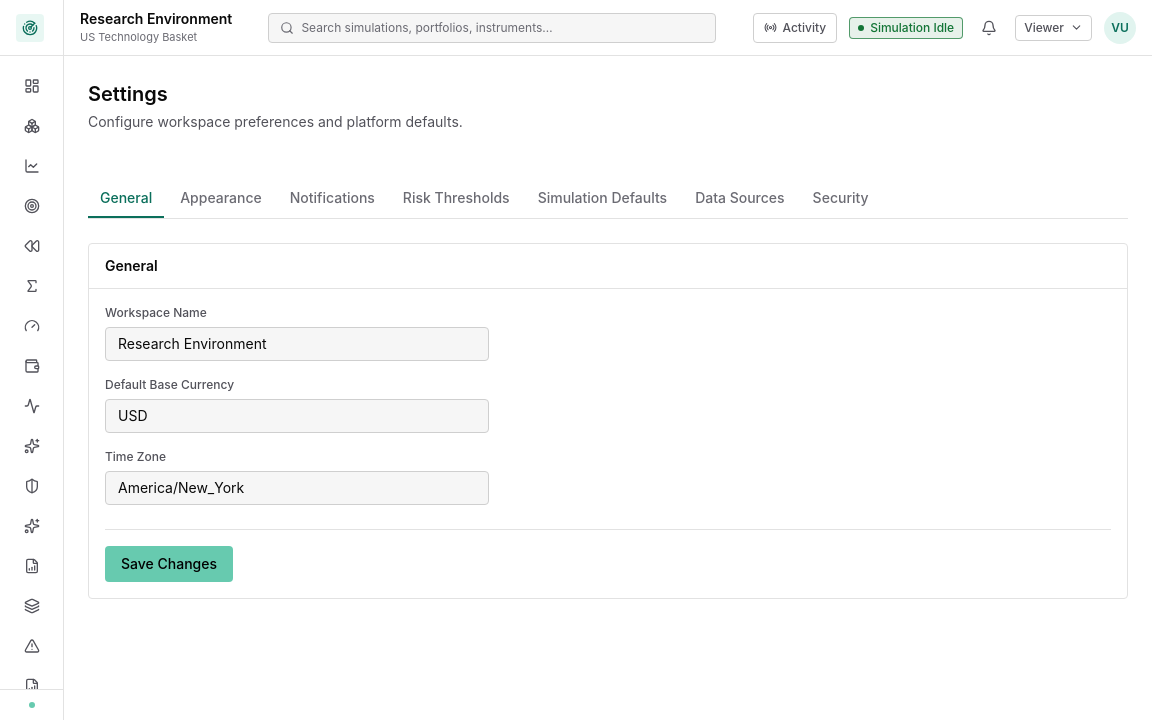
changing your own password › shows a wrong current password under the field
Click the button "Security". click: (841, 199)
box: [801,180,880,218]
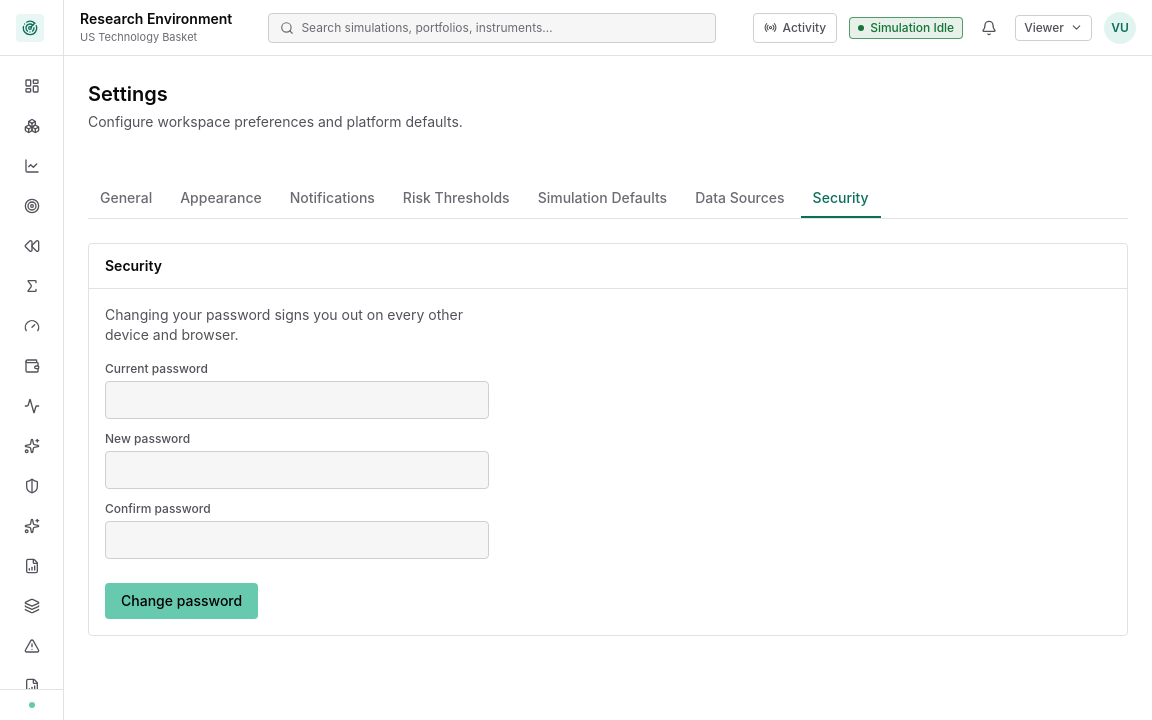
Type "not-it-at-all" into the password field labelled "Current password". click: (297, 400)
box: [105,381,489,419]
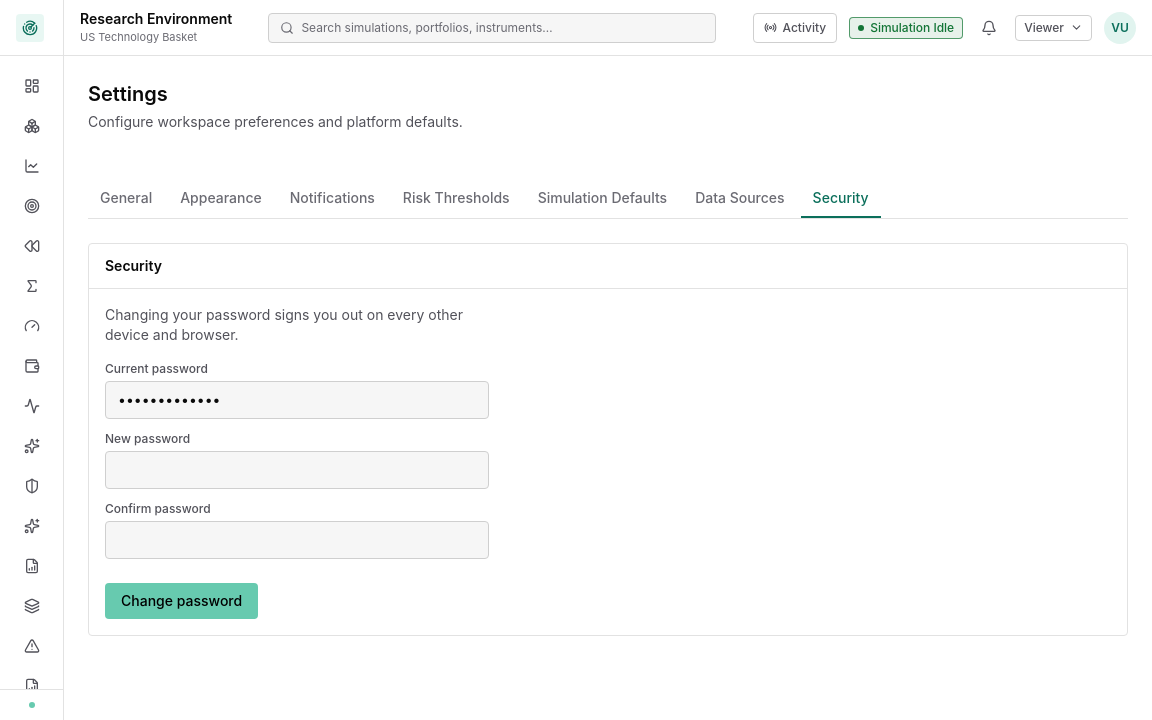
Type "brand-new-password-1" into the password field labelled "New password". click: (297, 470)
box: [105,451,489,489]
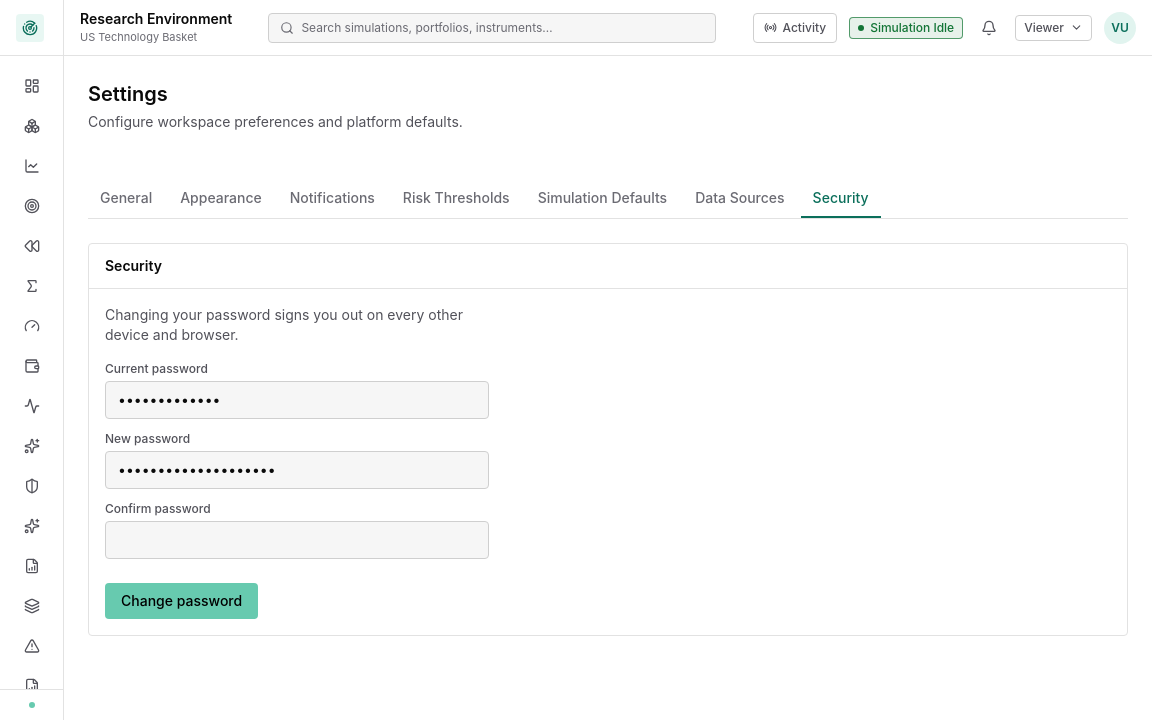
Type "brand-new-password-1" into the password field labelled "Confirm password". click: (297, 540)
box: [105,521,489,559]
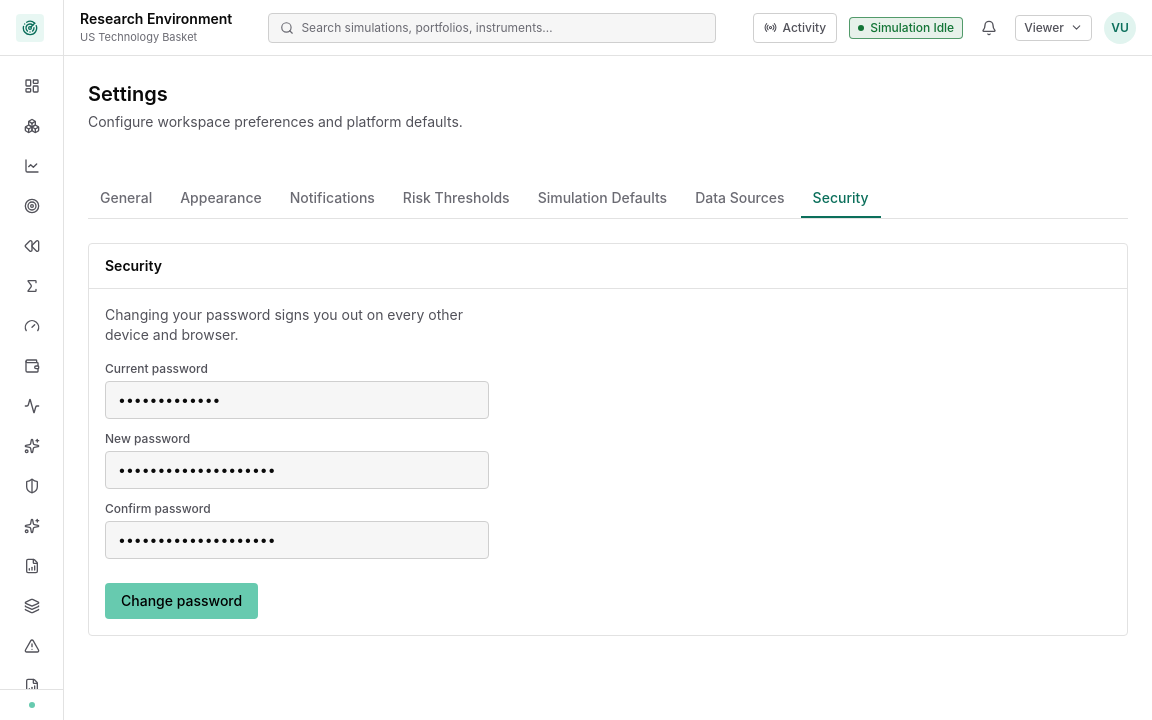
Click the button "Change password". click: (182, 601)
box: [105,583,258,619]
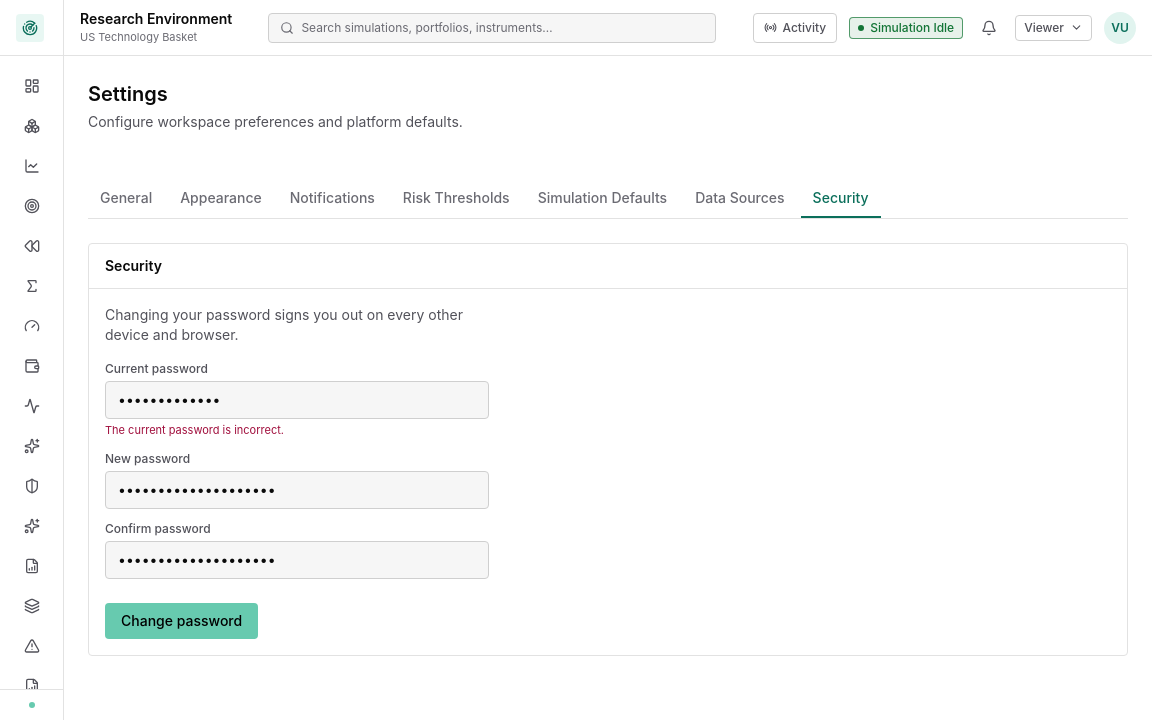
Now the text "The current password is incorrect." is shown, box [105,423,284,437]
